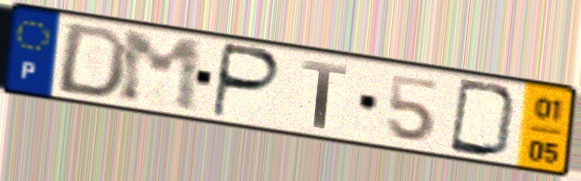5: (382, 71, 442, 144)
D: (445, 75, 522, 161), (51, 20, 133, 100)
M: (118, 29, 204, 116)
P: (208, 40, 285, 122)
T: (299, 57, 350, 132)
